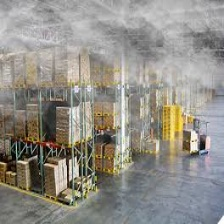smoke: (7, 3, 213, 63)
